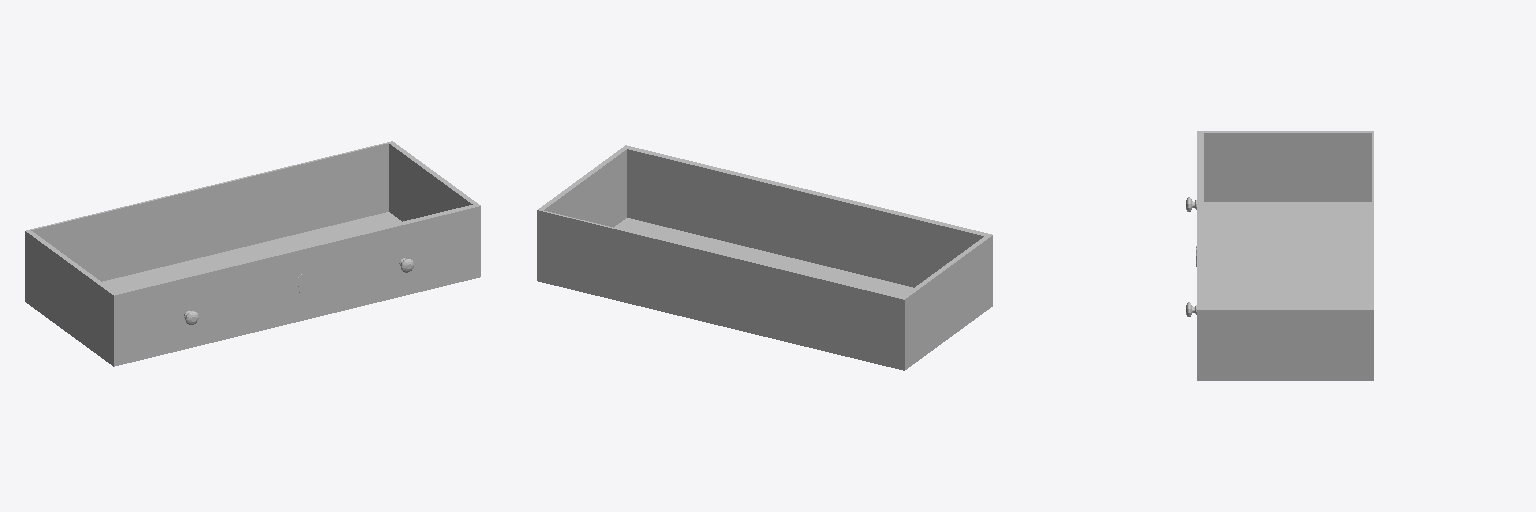
The model's file is DrawerSecond.obj.
The picture shows the model from 3 angles: view 1: azimuth 30°, elevation 25°; view 2: azimuth 150°, elevation 25°; view 3: azimuth 270°, elevation 25°; orthographic projection.
Visible parts, largest first — view 1: Plane_007; view 2: Plane_007; view 3: Plane_007.
Part boxes in pixels (x1,y1,x2,y2): Plane_007: (25, 141, 480, 366); Plane_007: (537, 145, 992, 370); Plane_007: (1186, 131, 1373, 380).
Bounding box in the file's own units: 1.19 × 0.2199 × 0.5283.